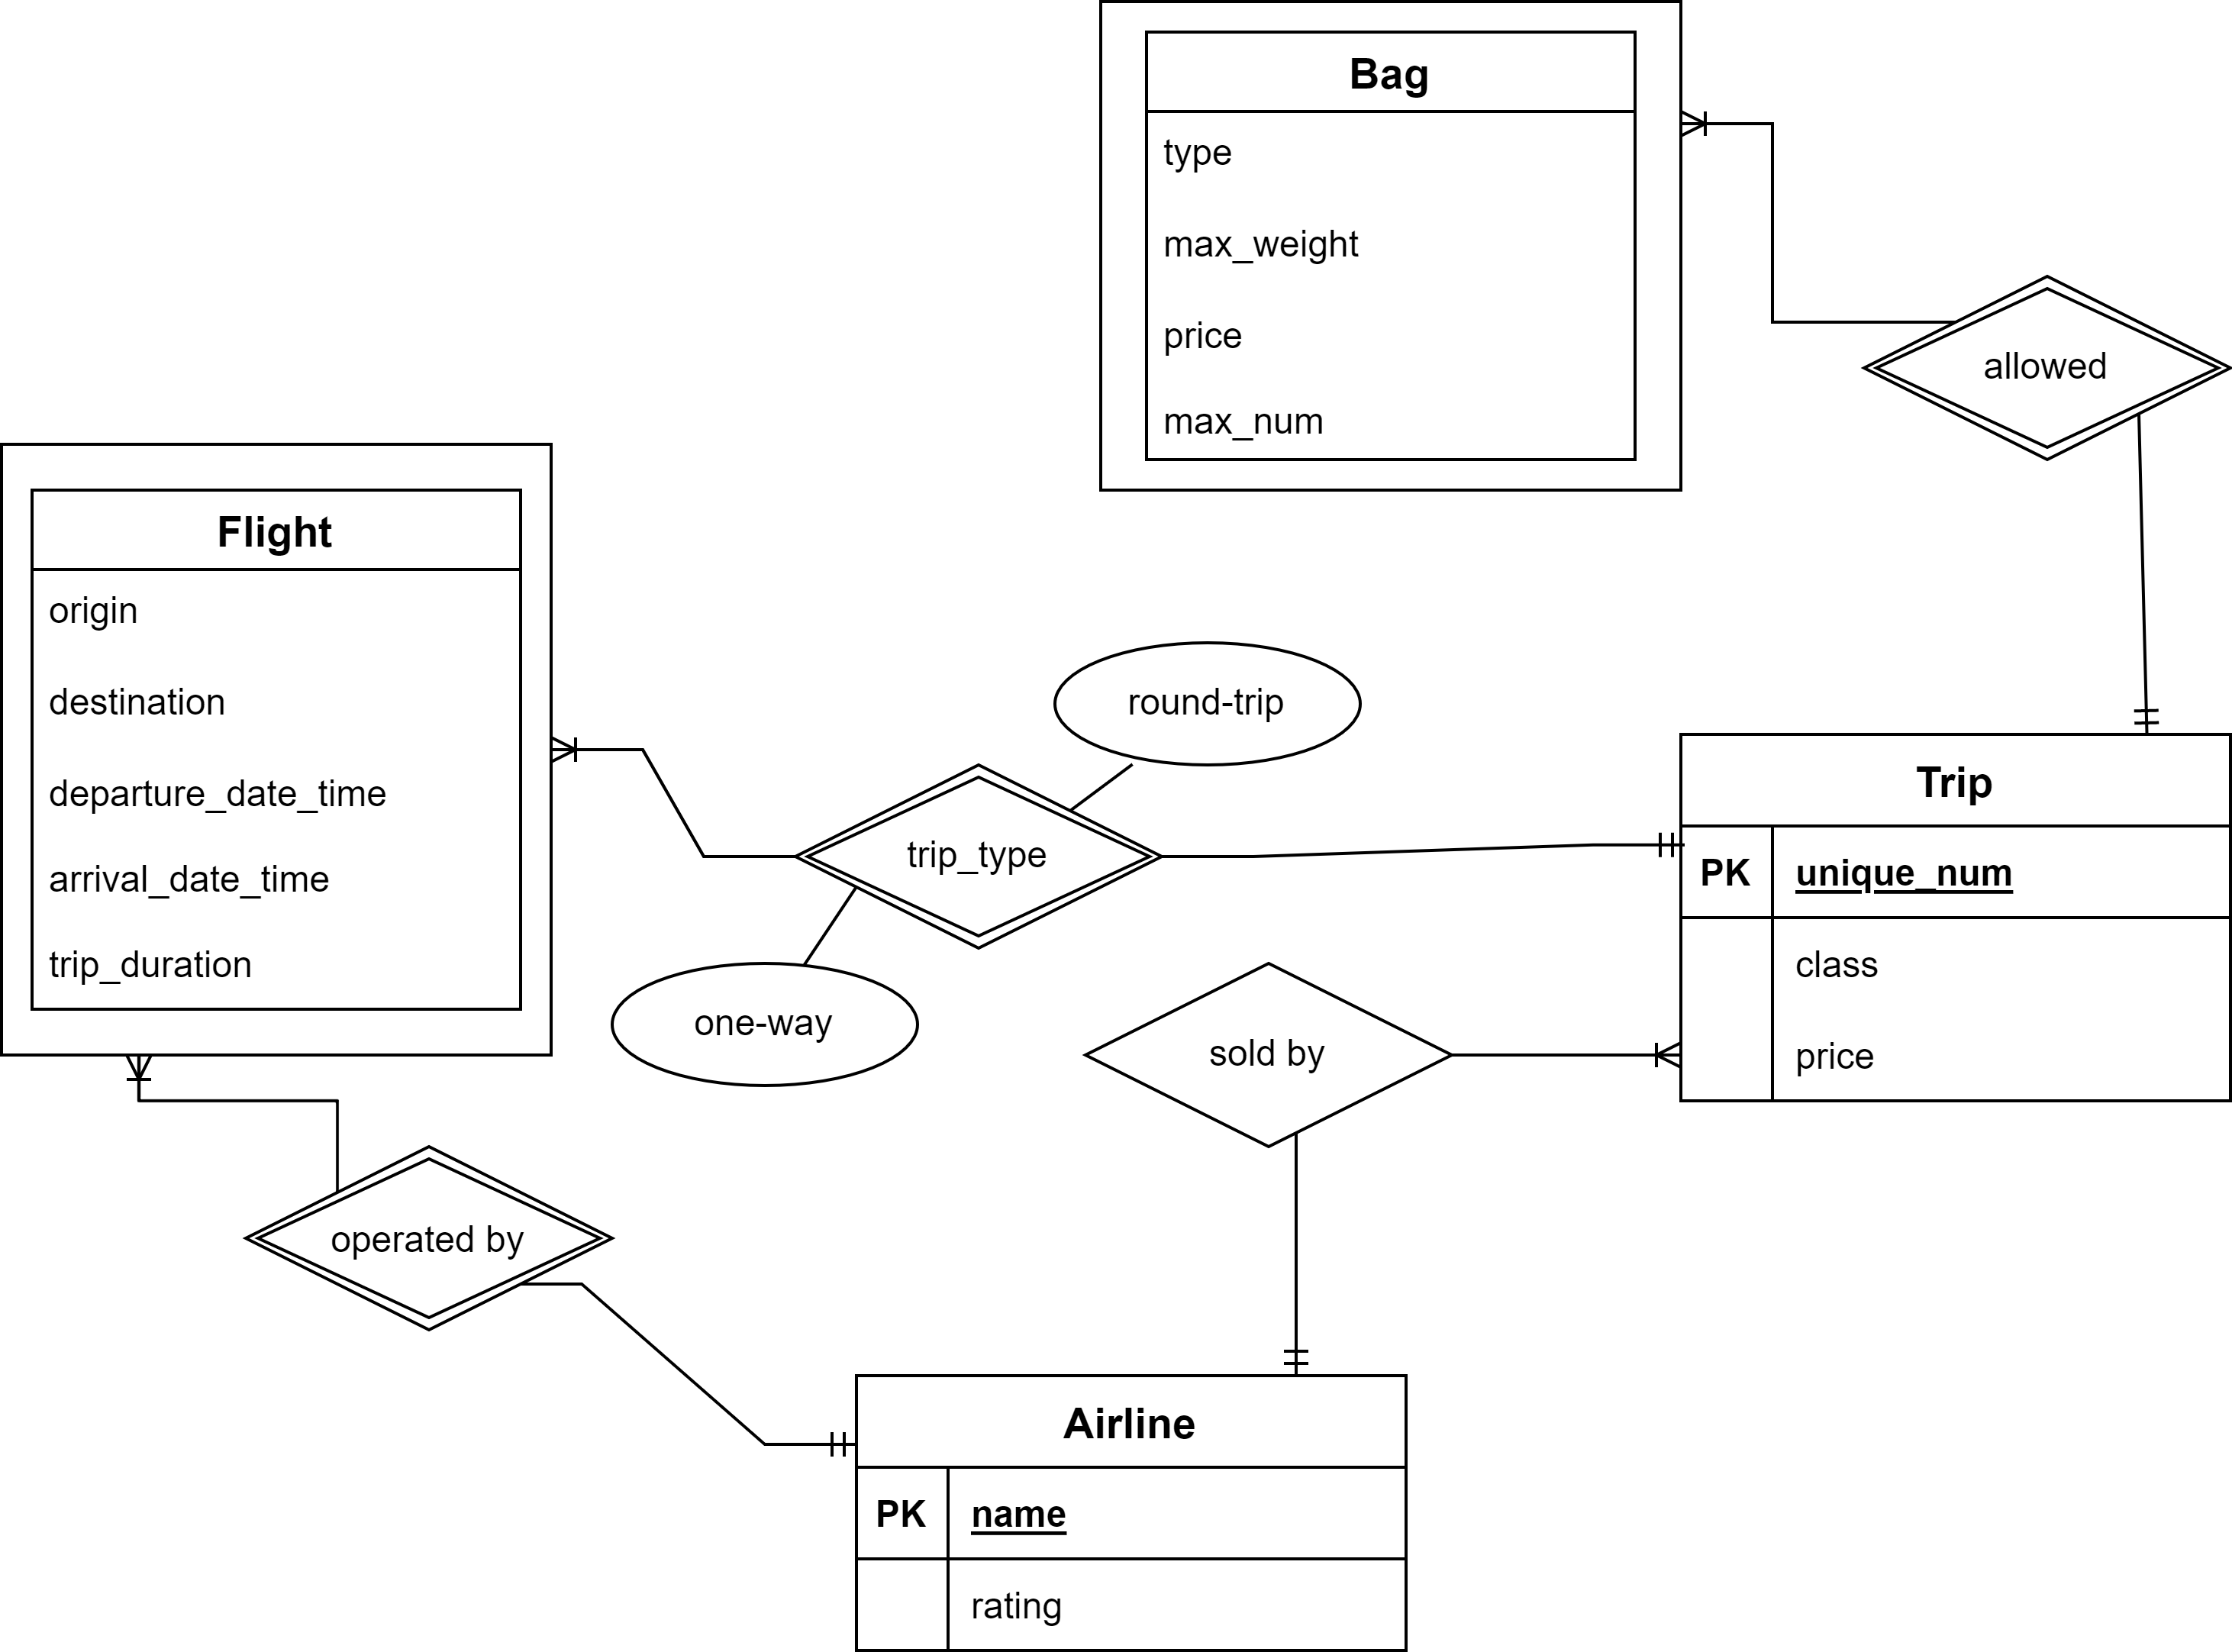entity: (1682, 736, 2230, 1102), (855, 1373, 1403, 1652)
ident_rel: (241, 1144, 614, 1334), (1863, 274, 2232, 458), (798, 764, 1167, 942)
many: (1682, 95, 1778, 160), (551, 731, 642, 769), (1623, 1034, 1681, 1074), (118, 1053, 163, 1098)
one: (787, 1419, 855, 1468), (2119, 685, 2178, 737), (1620, 821, 1682, 869), (1275, 1317, 1320, 1378)
rel: (1086, 965, 1452, 1149)
rel_attr: (1054, 642, 1365, 769), (612, 961, 919, 1088)
weak_entity: (0, 442, 548, 1055), (1096, 0, 1681, 489)
